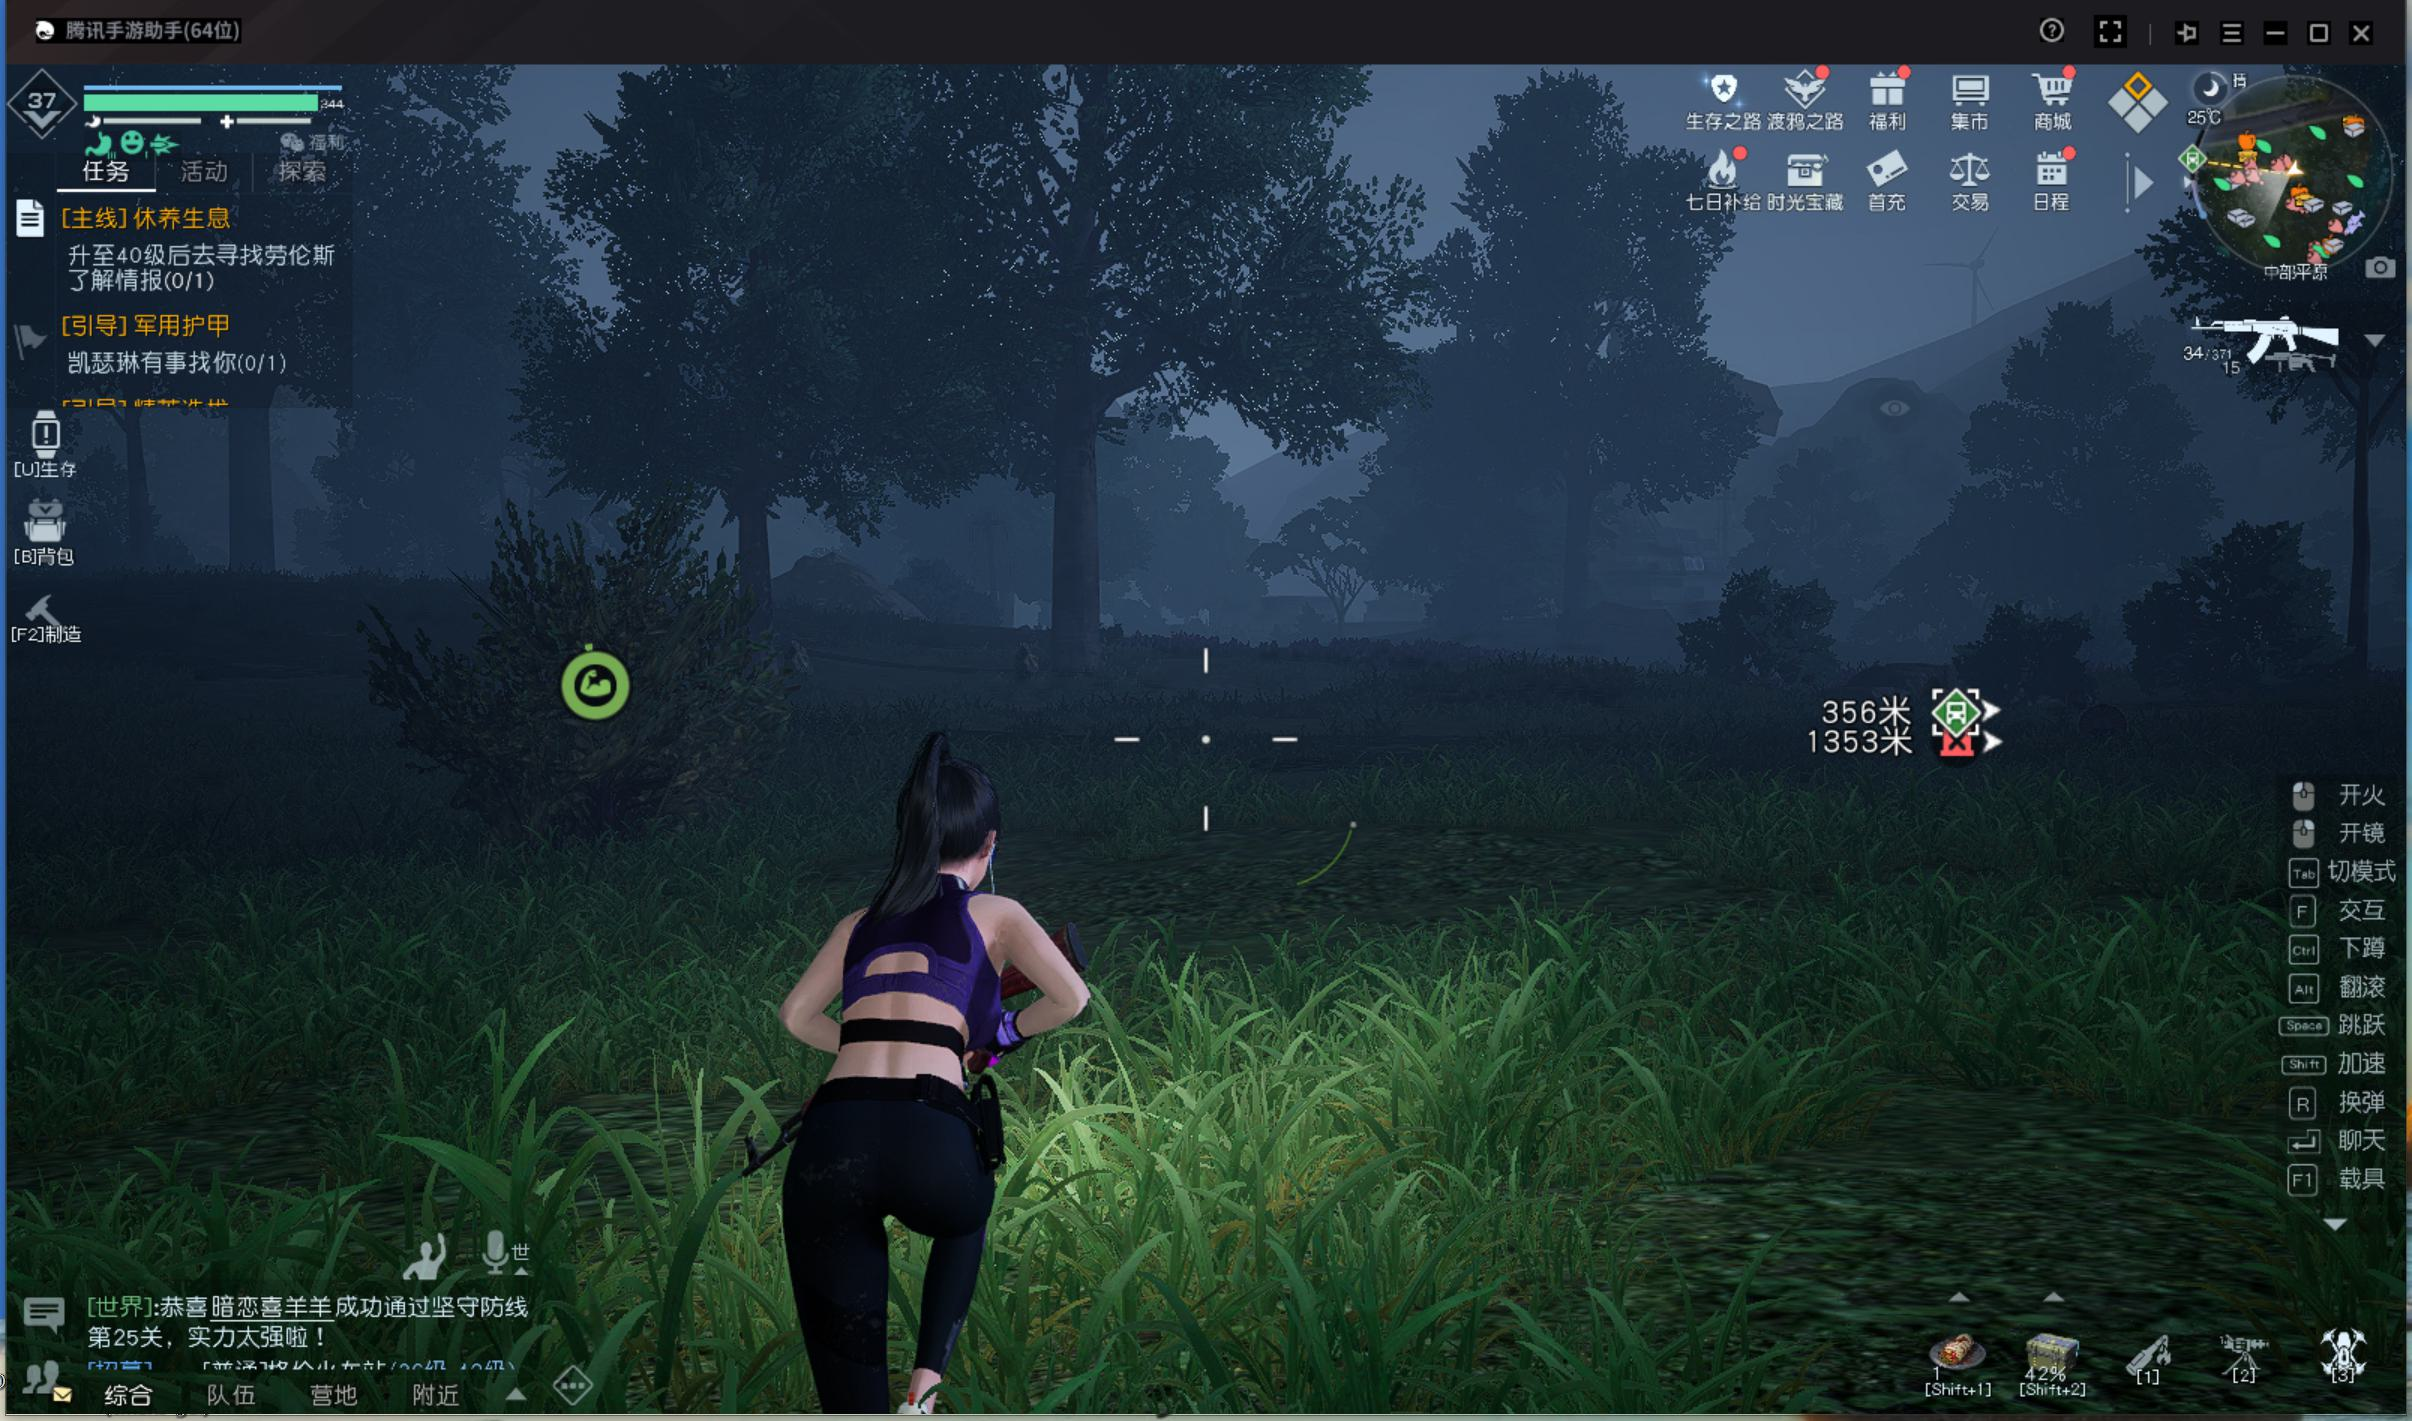stone: (1000, 634, 1039, 682), (783, 638, 819, 673)
tree: (1040, 398, 1105, 702), (218, 398, 304, 580), (223, 398, 282, 597), (722, 509, 785, 683), (1553, 492, 1598, 661)
